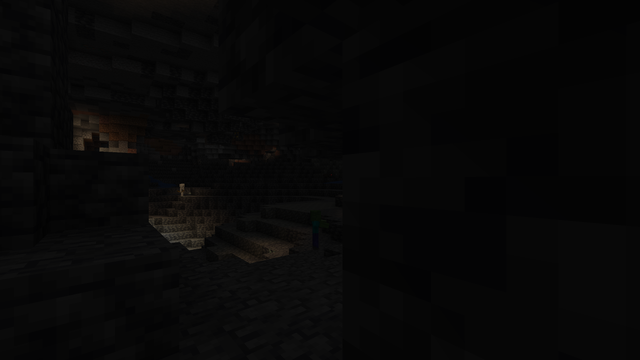araignees: (324, 173, 331, 176)
squelettes: (179, 183, 184, 195)
zombies: (307, 210, 323, 250)
